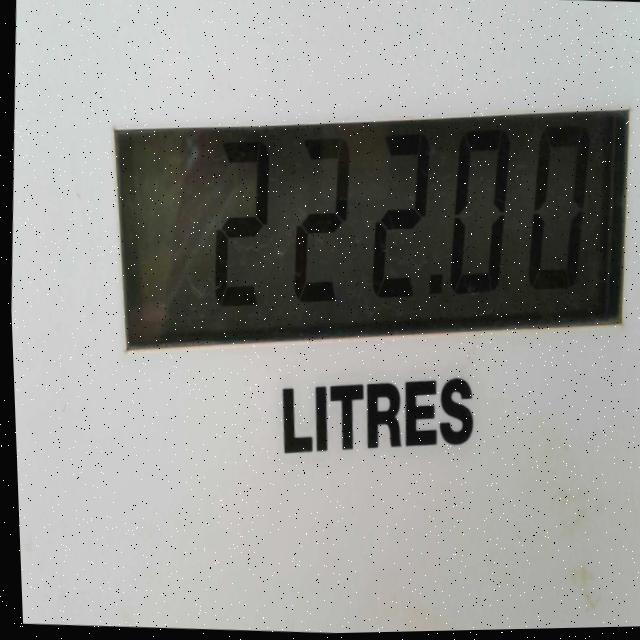.: (420, 257, 441, 312)
0: (428, 124, 517, 307), (512, 123, 597, 289)
2: (188, 129, 281, 324), (276, 135, 361, 324), (354, 127, 435, 312)
